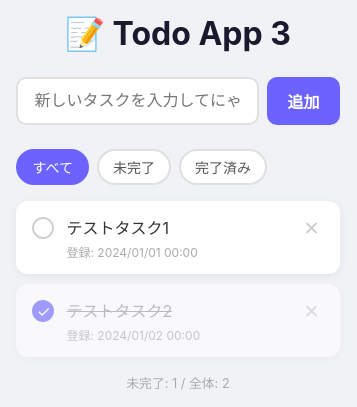
it: TodoApp › フィルター機能 › 「完了済み」フィルターで完了済みのTodoのみ表示される
Expected: the text "テストタスク2" is shown, [66,301,172,321]
Click the button "完了済み" at (223, 167), box [179,149,267,185]
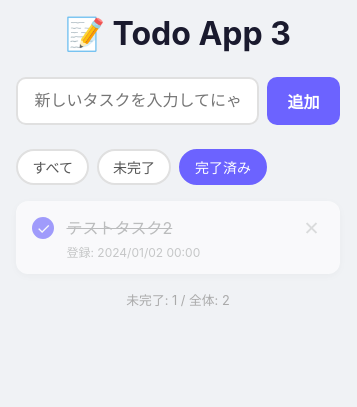
Expected: the text "テストタスク2" is shown, [66,218,172,238]
Now the text "テストタスク1" is gone
